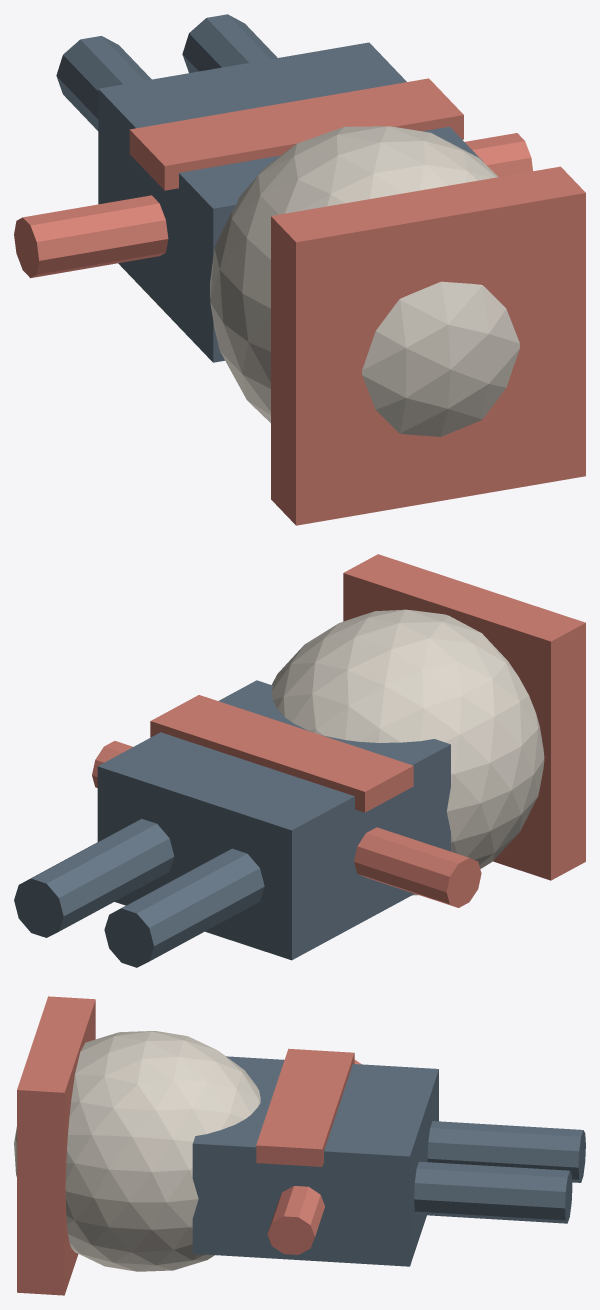
The model's file is npc-craig.glb.
3 views of the same model, one above another, from view 1: azimuth 30°, elevation 25°; view 2: azimuth 150°, elevation 25°; view 3: azimuth 270°, elevation 25° (orthographic). The views are drawn at different scales.
Visible parts, largest first — view 1: world; view 2: world; view 3: world.
Boxes of the visible parts, x1,y1,x2,y2 form: world: (14, 14, 585, 525); world: (14, 554, 585, 967); world: (14, 996, 585, 1295).
Size of the model in its own units: 1.58 by 1 by 2.35.
